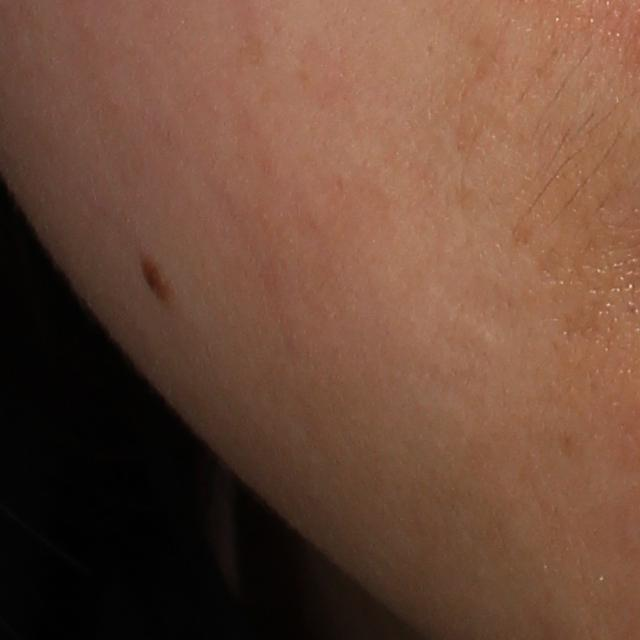nevus: (133, 243, 182, 314)
